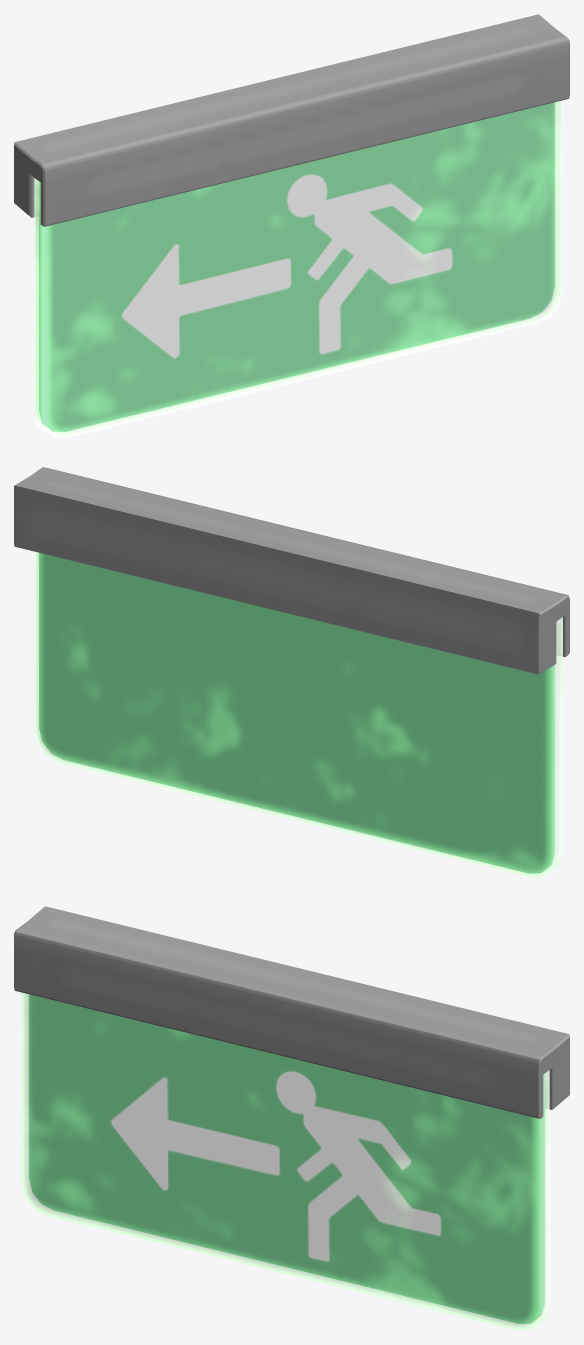
The picture shows the model from 3 angles, top to bottom: view 1: azimuth 30°, elevation 25°; view 2: azimuth 150°, elevation 25°; view 3: azimuth 330°, elevation 25°; orthographic projection.
Parts seen in each view (by area): view 1: Glass_Low, Sign_Low, Joint_Low; view 2: Glass_Low, Sign_Low, Joint_Low; view 3: Glass_Low, Sign_Low, Joint_Low.
Part boxes in pixels (<box>): Glass_Low: <box>34,100,562,438</box>; Sign_Low: <box>39,102,554,431</box>; Joint_Low: <box>14,14,569,226</box>; Glass_Low: <box>34,551,562,877</box>; Sign_Low: <box>39,553,554,873</box>; Joint_Low: <box>14,467,569,674</box>; Glass_Low: <box>21,992,549,1330</box>; Sign_Low: <box>29,994,544,1323</box>; Joint_Low: <box>14,906,569,1118</box>.
Size of the model in its own units: 33.82 by 17.46 by 3.41.
Materials: 1 (1 with a texture image).
